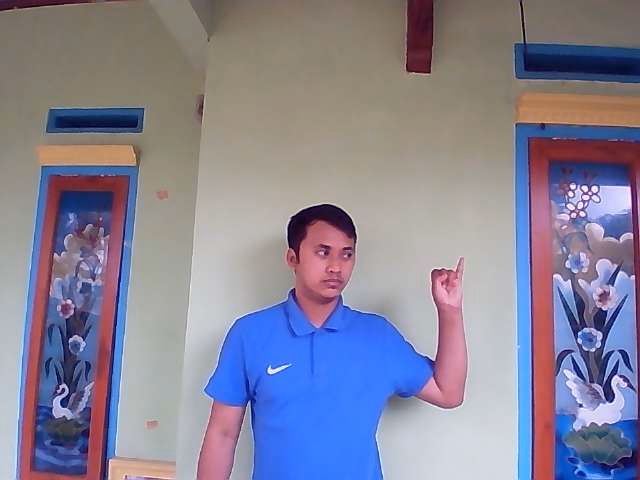I: (431, 257, 465, 311)
